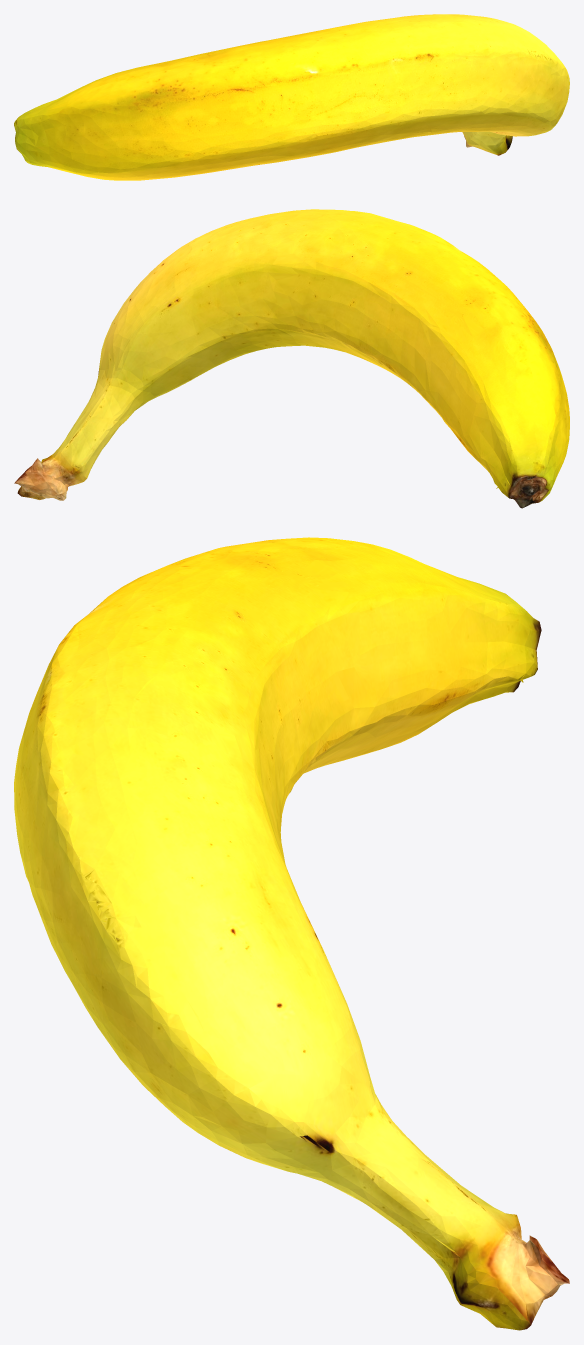
File: banana-v1.glb
The picture shows the model from 3 angles, top to bottom: view 1: azimuth 30°, elevation 25°; view 2: azimuth 150°, elevation 25°; view 3: azimuth 270°, elevation 25°; orthographic projection. The views are drawn at different scales.
Visible parts, largest first — view 1: banana; view 2: banana; view 3: banana.
Boxes of the visible parts, x1,y1,x2,y2 form: banana: (14, 14, 569, 180); banana: (14, 209, 569, 508); banana: (14, 537, 569, 1330).
Bounding box in the file's own units: 6.8 × 3.23 × 3.44.
1 material, 1 textured.
